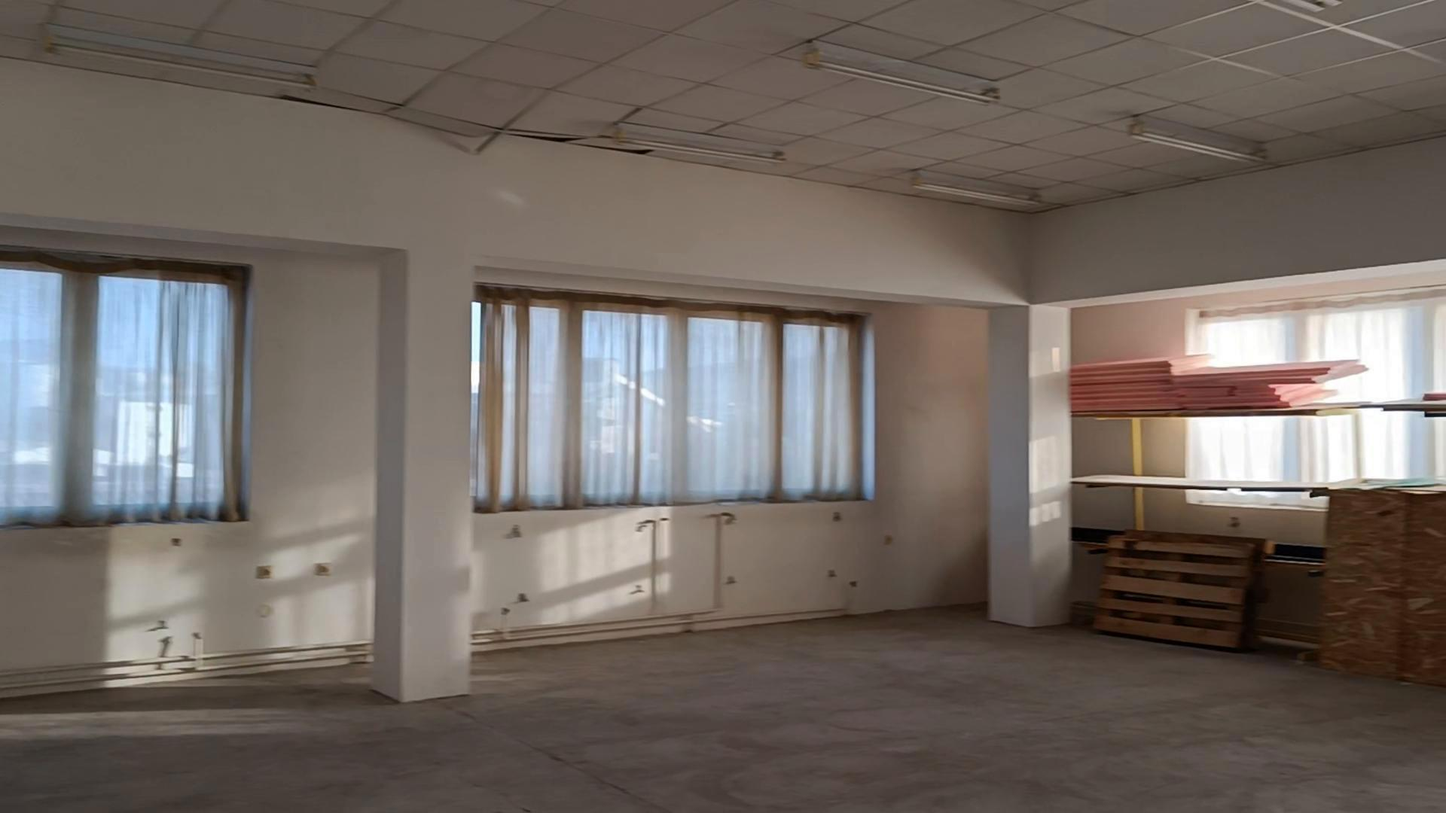ceiling: (0, 0, 1445, 210)
floor: (0, 610, 1445, 812)
wall: (0, 61, 1443, 693), (473, 307, 994, 647), (5, 271, 377, 680)
